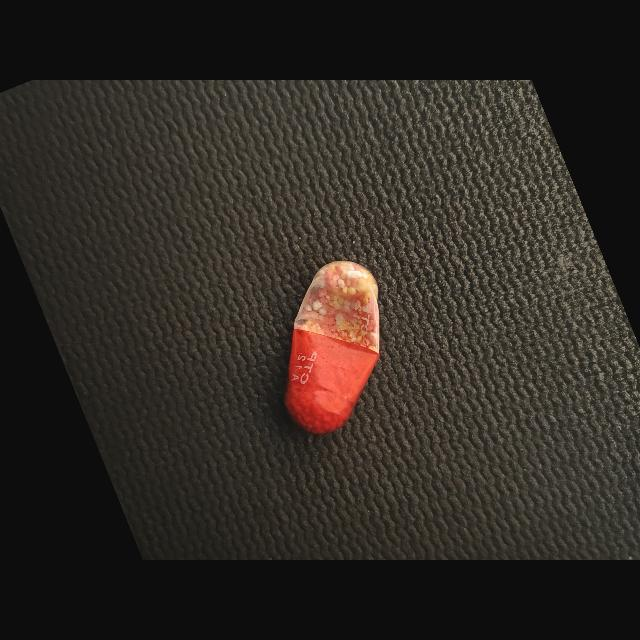Defective Capsule: (285, 261, 380, 434)
